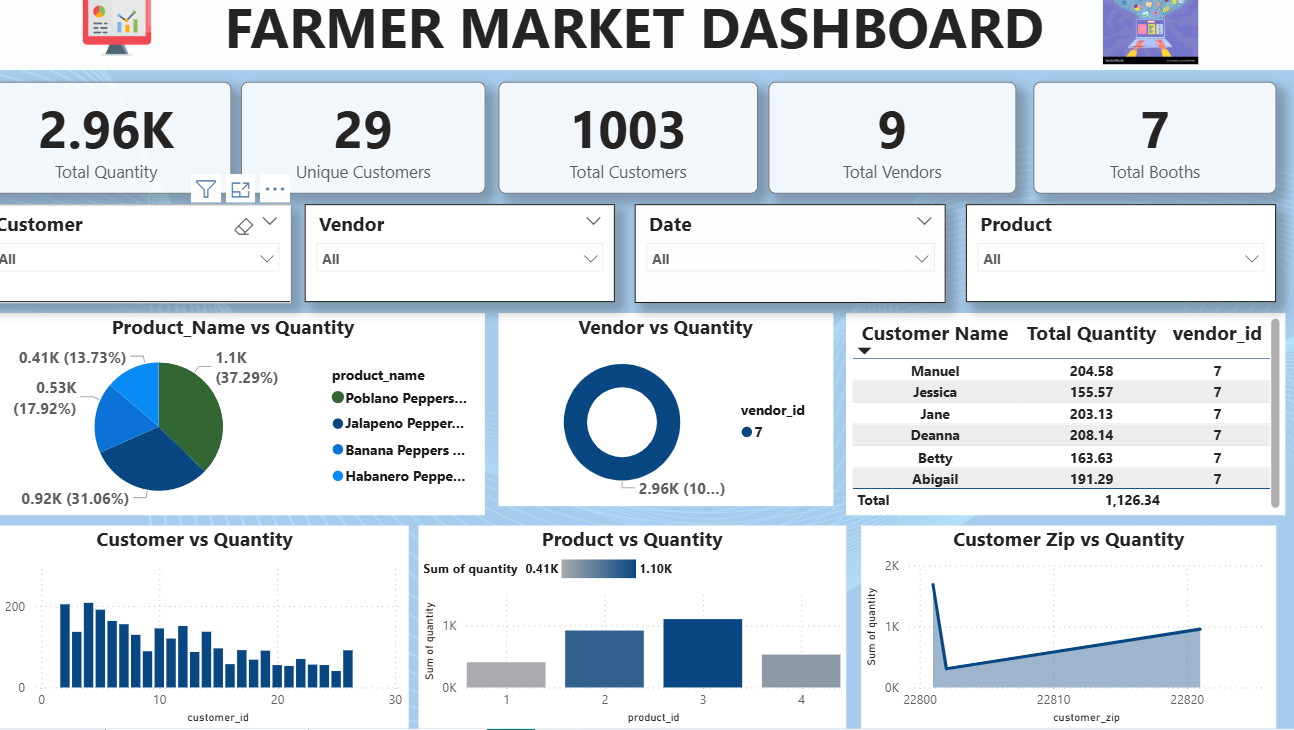

What the dashboard file says about the page in this screenshot:
{"tool":"powerbi","page":{"name":"Quantity wise Anaylsis","canvas":[1280,720],"ordinal":0},"visuals":[{"type":"columnChart","title":"Customer vs Quantity","fields":{"Category":["customer_purchases.customer_id"],"Y":["customer_purchases.quantity"]},"box":[10,523.5,412.5,196.3],"z":0},{"type":"clusteredColumnChart","title":"Product vs Quantity","fields":{"Category":["product.product_id"],"Y":["customer_purchases.quantity"]},"box":[432.5,523.5,412.5,196.3],"z":2000},{"type":"pieChart","title":"Product_Name vs Quantity","fields":{"Category":["product.product_name"],"Y":["customer_purchases.quantity"]},"box":[10,318.6,486.5,194.9],"z":3000},{"type":"donutChart","title":"Vendor vs Quantity","fields":{"Category":["customer_purchases.vendor_id"],"Y":["customer_purchases.quantity"]},"box":[509.3,318.6,322.9,186.4],"z":4000},{"type":"textbox","box":[0,0,1280.3,83.7],"z":5000},{"type":"image","box":[87.8,0,105.7,81],"z":6000},{"type":"image","box":[1063.5,0,150.9,83.7],"z":7000},{"type":"card","fields":{"Values":["customer_purchases.quantity"]},"box":[10,95.3,241.8,108.1],"z":8000},{"type":"card","fields":{"Values":["customer_purchases.customer_id"]},"box":[260.3,95.3,236.1,108.1],"z":9000},{"type":"card","fields":{"Values":["customer_purchases.customer_id"]},"box":[509.3,95.3,250.4,108.1],"z":10000},{"type":"card","fields":{"Values":["vendor.vendor_id"]},"box":[769.6,95.3,239,108.1],"z":11000},{"type":"card","fields":{"Values":["vendor_booth_assignments.booth_number"]},"box":[1025.7,95.3,234.7,108.1],"z":12000},{"type":"tableEx","fields":{"Values":["customer.customer_first_name","customer_purchases.quantity","vendor.vendor_id"]},"box":[845,318.6,423.9,194.9],"z":13000},{"type":"areaChart","title":"Customer Zip vs Quantity","fields":{"Category":["customer.customer_zip"],"Y":["customer_purchases.quantity"]},"box":[859.2,523.5,401.2,196.3],"z":14000},{"type":"slicer","fields":{"Values":["customer.customer_id"]},"box":[9.6,214.1,299.1,94.7],"z":15000},{"type":"slicer","fields":{"Values":["market_date_info.market_date"]},"box":[640.1,213.4,300.2,95.3],"z":16000},{"type":"slicer","fields":{"Values":["customer_purchases.vendor_id"]},"box":[322.5,214.1,299.1,94.7],"z":17000},{"type":"slicer","fields":{"Values":["product.product_id"]},"box":[960.6,214.1,299.1,94.7],"z":18000}]}

Visuals, with their boxes on the page's 1280x720 design canvas (x1, y1, x2, y2). These are canvas units, not pixel positions in the 1294x730 screenshot, which may show the page scaled, cropped or inside an application window:
"Customer vs Quantity" columnChart: {"x1": 10, "y1": 524, "x2": 422, "y2": 720}
"Product vs Quantity" clusteredColumnChart: {"x1": 432, "y1": 524, "x2": 845, "y2": 720}
"Product_Name vs Quantity" pieChart: {"x1": 10, "y1": 319, "x2": 496, "y2": 514}
"Vendor vs Quantity" donutChart: {"x1": 509, "y1": 319, "x2": 832, "y2": 505}
textbox: {"x1": 0, "y1": 0, "x2": 1280, "y2": 84}
image: {"x1": 88, "y1": 0, "x2": 194, "y2": 81}
image: {"x1": 1064, "y1": 0, "x2": 1214, "y2": 84}
card - customer_purchases.quantity: {"x1": 10, "y1": 95, "x2": 252, "y2": 203}
card - customer_purchases.customer_id: {"x1": 260, "y1": 95, "x2": 496, "y2": 203}
card - customer_purchases.customer_id: {"x1": 509, "y1": 95, "x2": 760, "y2": 203}
card - vendor.vendor_id: {"x1": 770, "y1": 95, "x2": 1009, "y2": 203}
card - vendor_booth_assignments.booth_number: {"x1": 1026, "y1": 95, "x2": 1260, "y2": 203}
tableEx - customer.customer_first_name x customer_purchases.quantity: {"x1": 845, "y1": 319, "x2": 1269, "y2": 514}
"Customer Zip vs Quantity" areaChart: {"x1": 859, "y1": 524, "x2": 1260, "y2": 720}
slicer - customer.customer_id: {"x1": 10, "y1": 214, "x2": 309, "y2": 309}
slicer - market_date_info.market_date: {"x1": 640, "y1": 213, "x2": 940, "y2": 309}
slicer - customer_purchases.vendor_id: {"x1": 322, "y1": 214, "x2": 622, "y2": 309}
slicer - product.product_id: {"x1": 961, "y1": 214, "x2": 1260, "y2": 309}
